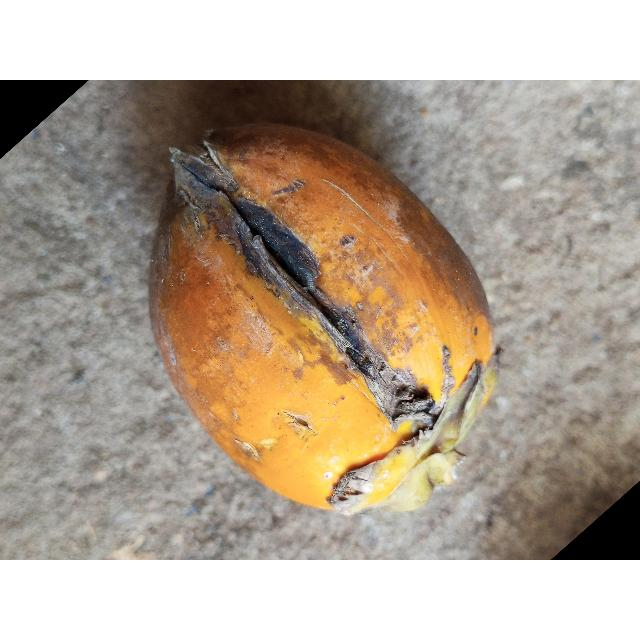damaged: (149, 124, 500, 514)
